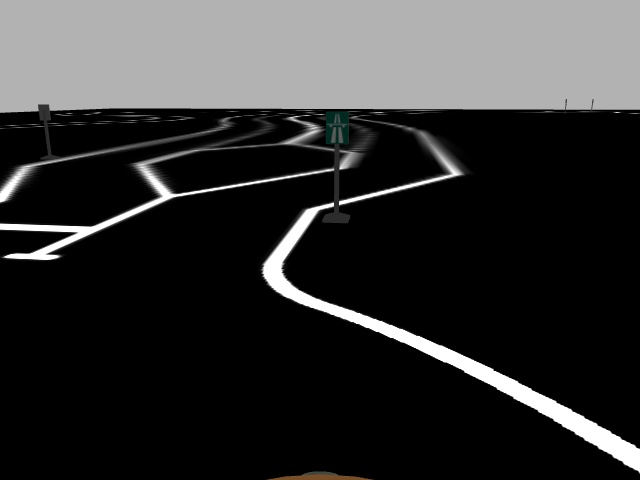enter_highway: (324, 110, 351, 145)
